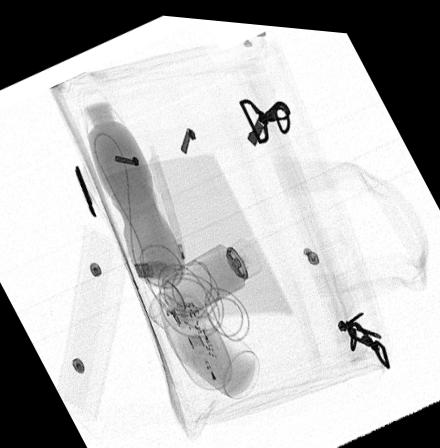Sprayer: (162, 232, 263, 313)
